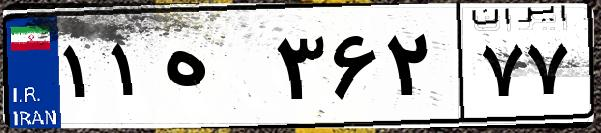1: (57, 26, 110, 100), (110, 28, 158, 98)
2: (385, 28, 445, 110)
3: (270, 28, 330, 110)
6: (330, 28, 385, 110)
7: (475, 38, 525, 113), (525, 38, 570, 115)
ه: (158, 20, 270, 120)
